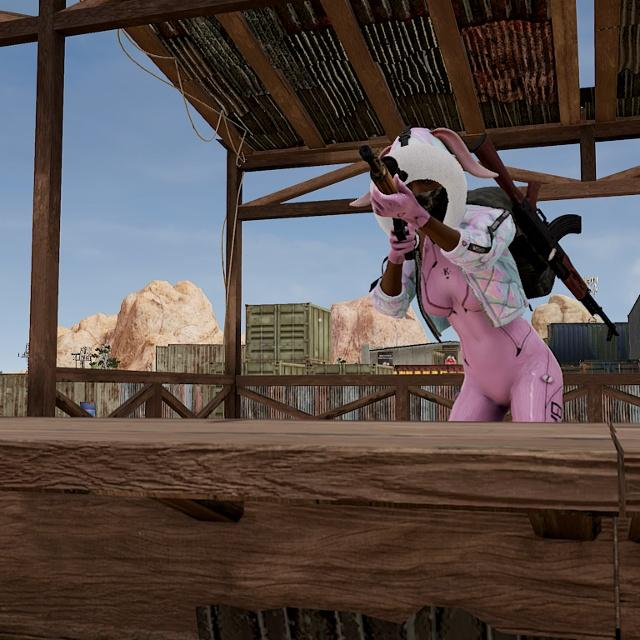head: (375, 122, 465, 243)
people: (360, 113, 574, 424)
